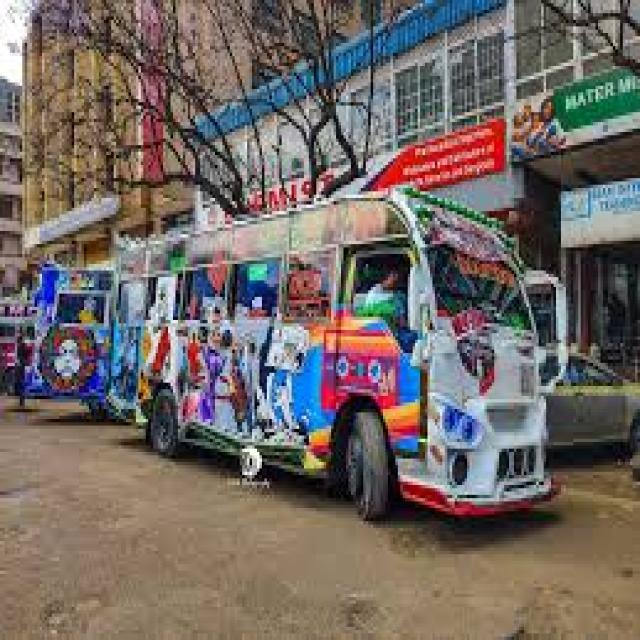bus: (100, 162, 597, 590)
